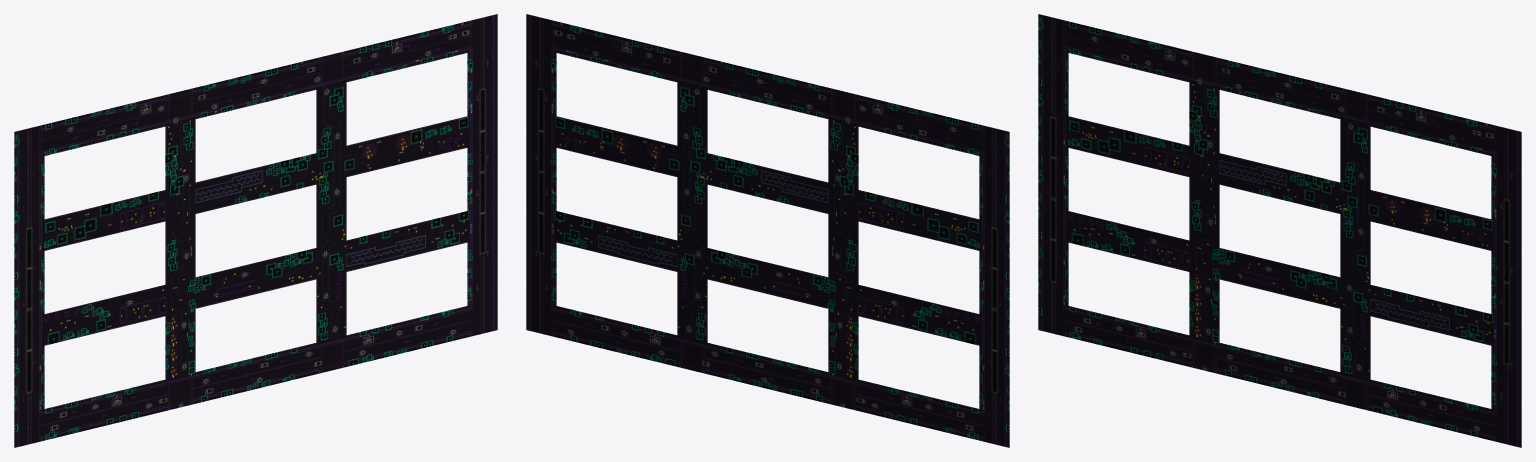
Rendered from street mesh.fbx.
3 renders of one model, left to right at view 1: azimuth 30°, elevation 25°; view 2: azimuth 150°, elevation 25°; view 3: azimuth 330°, elevation 25°, orthographic.
Visible parts, largest first — view 1: Object_1; view 2: Object_1; view 3: Object_1.
Boxes of the visible parts, x1=… form: Object_1: x1=14, y1=14, x2=497, y2=447; Object_1: x1=526, y1=14, x2=1009, y2=447; Object_1: x1=1038, y1=14, x2=1521, y2=447.
Bounding box in the file's own units: 1152 × 720 × 0.
